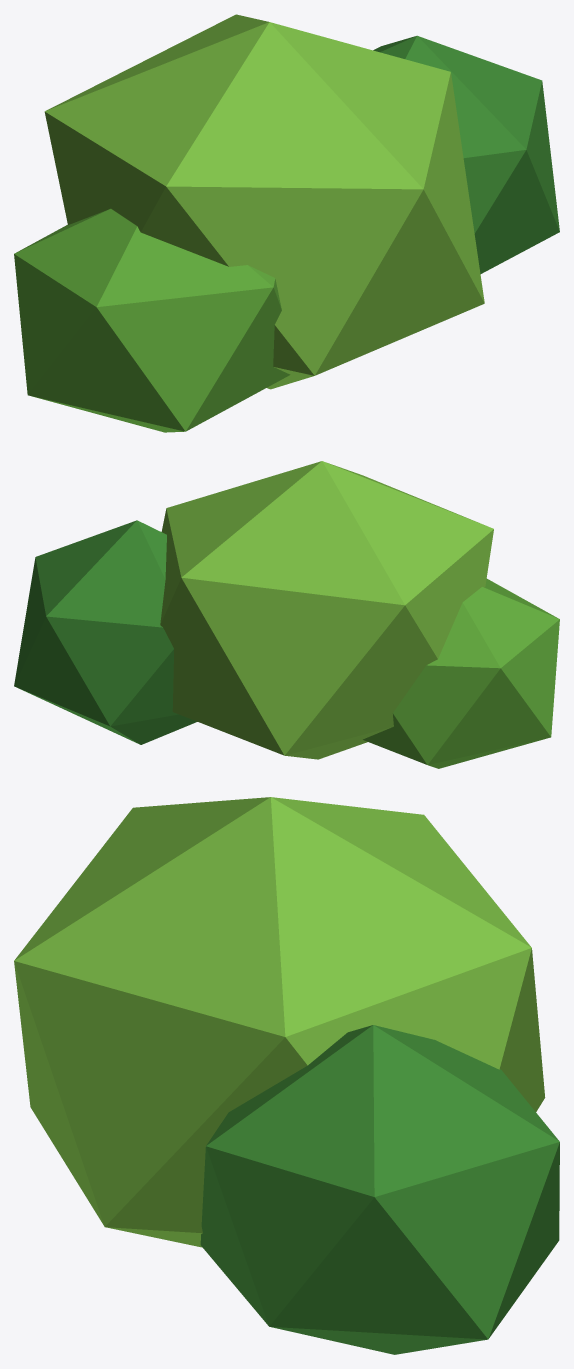
Rendered from shrub_small.glb.
The picture shows the model from 3 angles, top to bottom: view 1: azimuth 30°, elevation 25°; view 2: azimuth 150°, elevation 25°; view 3: azimuth 270°, elevation 25°; orthographic projection. The views are drawn at different scales.
Parts seen in each view (by area): view 1: shrub_small, part_top; view 2: shrub_small, part_top; view 3: shrub_small, part_top.
Boxes of the visible parts, bbox=[...] form: shrub_small: bbox=[44, 14, 484, 389]; part_top: bbox=[14, 35, 559, 432]; shrub_small: bbox=[160, 461, 493, 759]; part_top: bbox=[14, 520, 559, 768]; shrub_small: bbox=[14, 797, 545, 1247]; part_top: bbox=[200, 1025, 559, 1354].
Bounding box in the file's own units: 0.6481 × 0.3966 × 0.4229.
